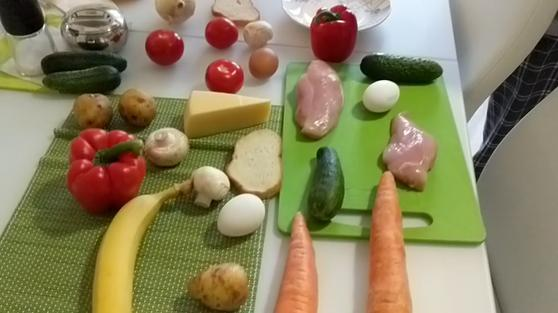banana: (95, 185, 189, 313)
carrot: (369, 173, 415, 313), (281, 213, 316, 313)
champignon: (147, 122, 189, 170), (195, 167, 227, 210), (245, 19, 275, 48)
cheese: (190, 88, 271, 134)
chicken_fillet: (290, 59, 342, 141), (389, 110, 435, 186)
cucumber: (311, 147, 345, 223), (42, 67, 123, 92), (362, 55, 442, 79), (41, 52, 123, 71)
egg: (217, 192, 266, 240), (359, 76, 402, 113), (247, 46, 278, 77)
pepper: (68, 128, 148, 209), (313, 5, 357, 61)
potato: (200, 259, 250, 313), (69, 89, 112, 132), (115, 88, 157, 124)
tomato: (150, 29, 186, 65), (203, 17, 239, 46), (206, 64, 247, 88)
white_bread: (229, 128, 282, 194)
